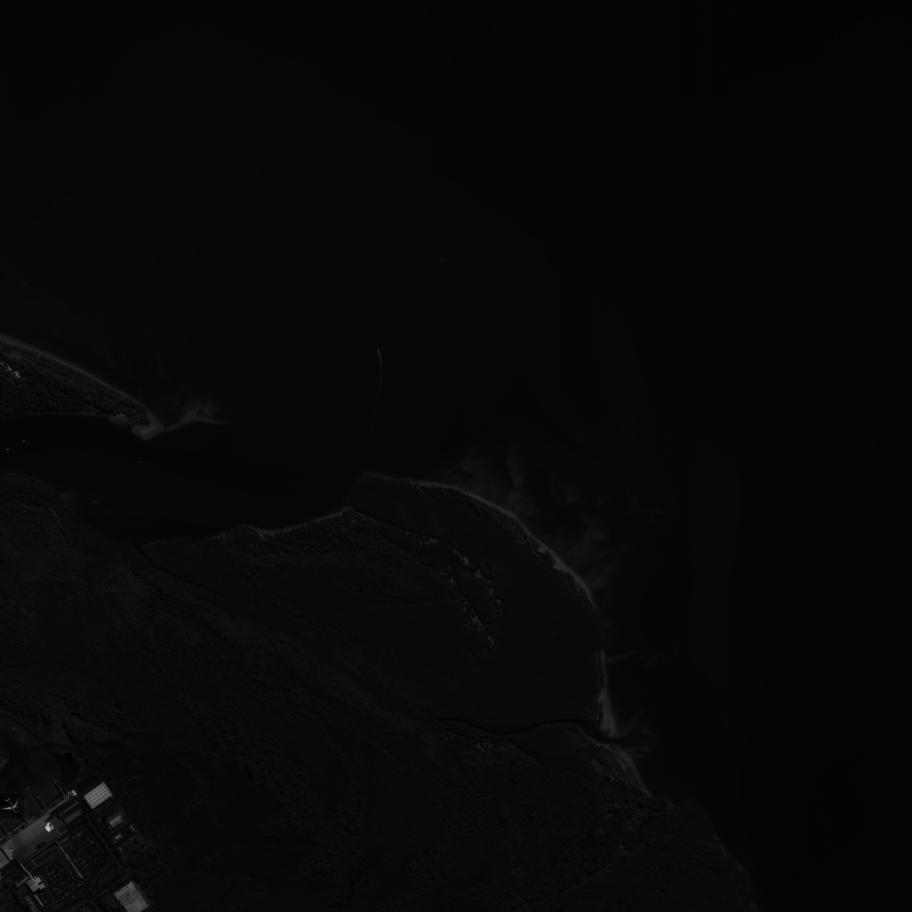plane: (65, 753, 71, 762)
storage-tank: (101, 816, 105, 820)
